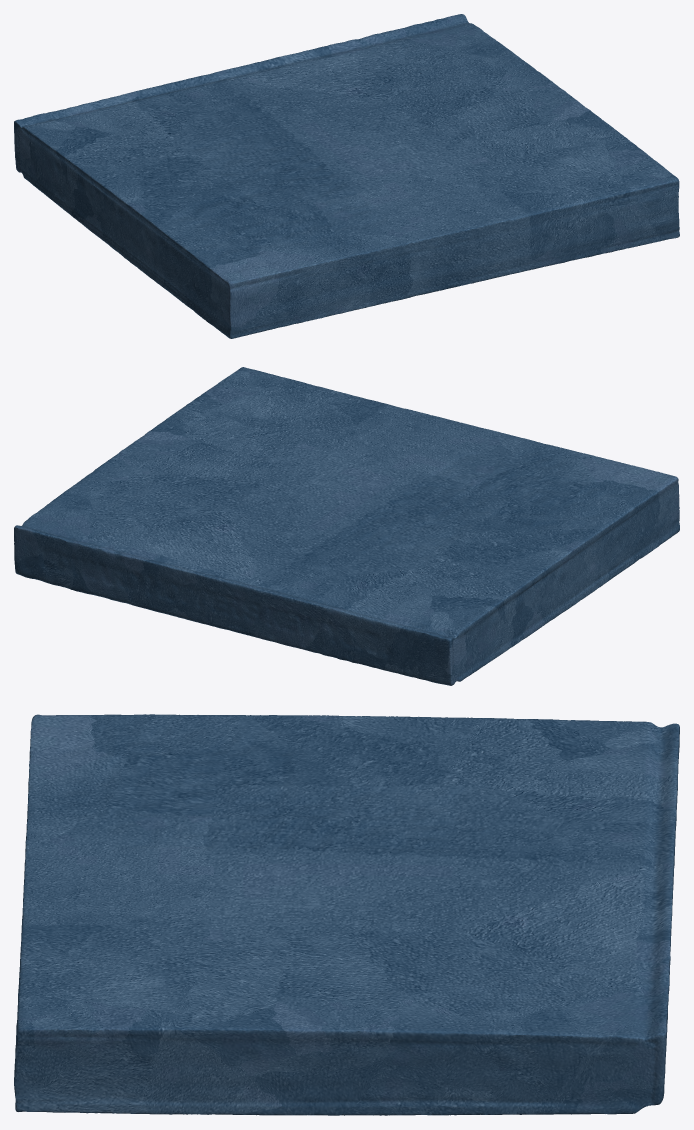
3 renders of one model, top to bottom at view 1: azimuth 30°, elevation 25°; view 2: azimuth 150°, elevation 25°; view 3: azimuth 270°, elevation 25°, orthographic. The views are drawn at different scales.
Parts seen in each view (by area): view 1: Item_Art book; view 2: Item_Art book; view 3: Item_Art book.
Boxes of the visible parts, x1=… form: Item_Art book: x1=14, y1=14, x2=679, y2=338; Item_Art book: x1=14, y1=367, x2=679, y2=685; Item_Art book: x1=14, y1=714, x2=679, y2=1115.
Size of the model in its own units: 0.2784 by 0.0355 by 0.2451.
Materials: 1 (1 with a texture image).
